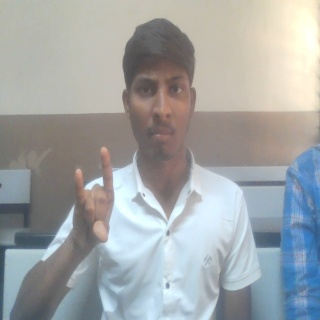Face: (119, 17, 199, 169)
I Love You: (70, 144, 117, 250)
